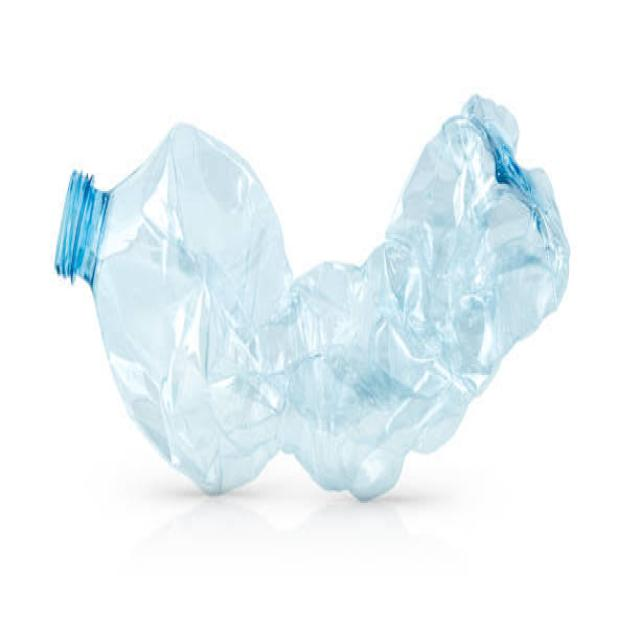plastic: (50, 83, 584, 512)
